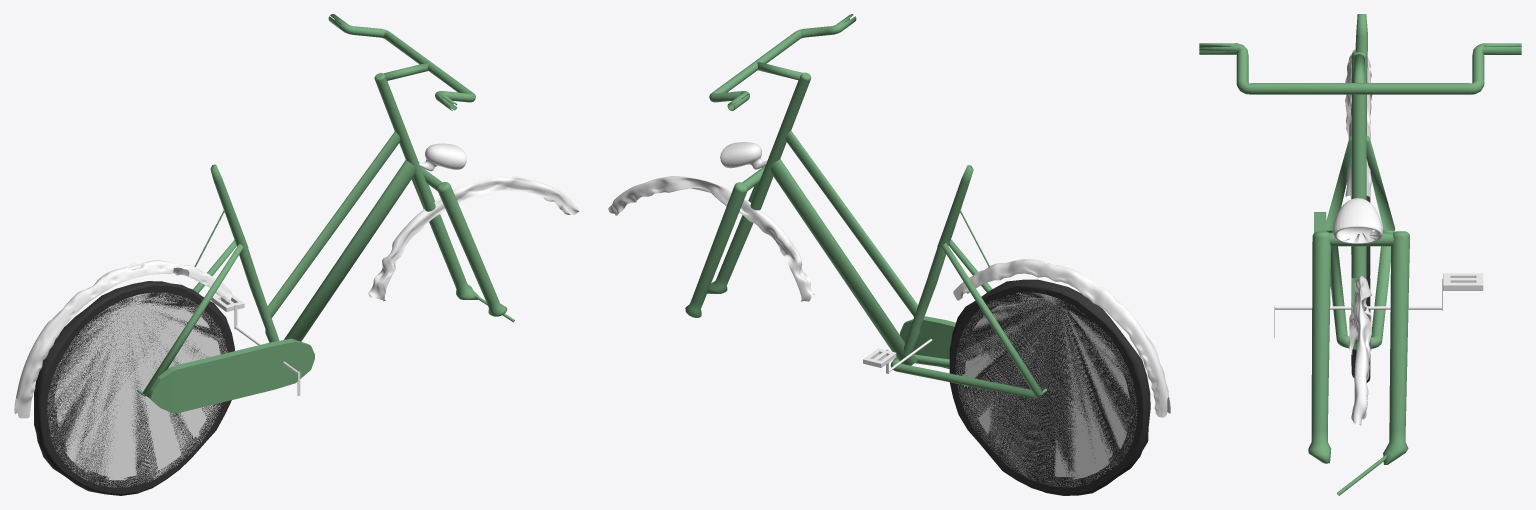
Rendered from bike_rusty.fbx.
3 views of the same model, side by side, from view 1: azimuth 30°, elevation 25°; view 2: azimuth 150°, elevation 25°; view 3: azimuth 270°, elevation 25° (orthographic). The views are drawn at different scales.
Parts seen in each view (by area): view 1: BikeRusty; view 2: BikeRusty; view 3: BikeRusty.
Part boxes in pixels (x1,y1,x2,y2): BikeRusty: (14, 14, 579, 495); BikeRusty: (608, 14, 1170, 495); BikeRusty: (1199, 14, 1521, 495).
Size of the model in its own units: 79.52 by 50.19 by 29.74.
